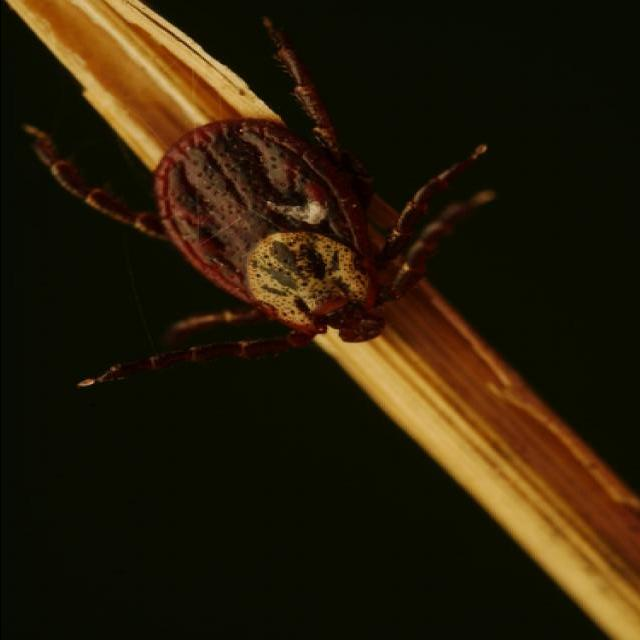Dermacentor Reticulatus-F: (22, 15, 498, 387)
